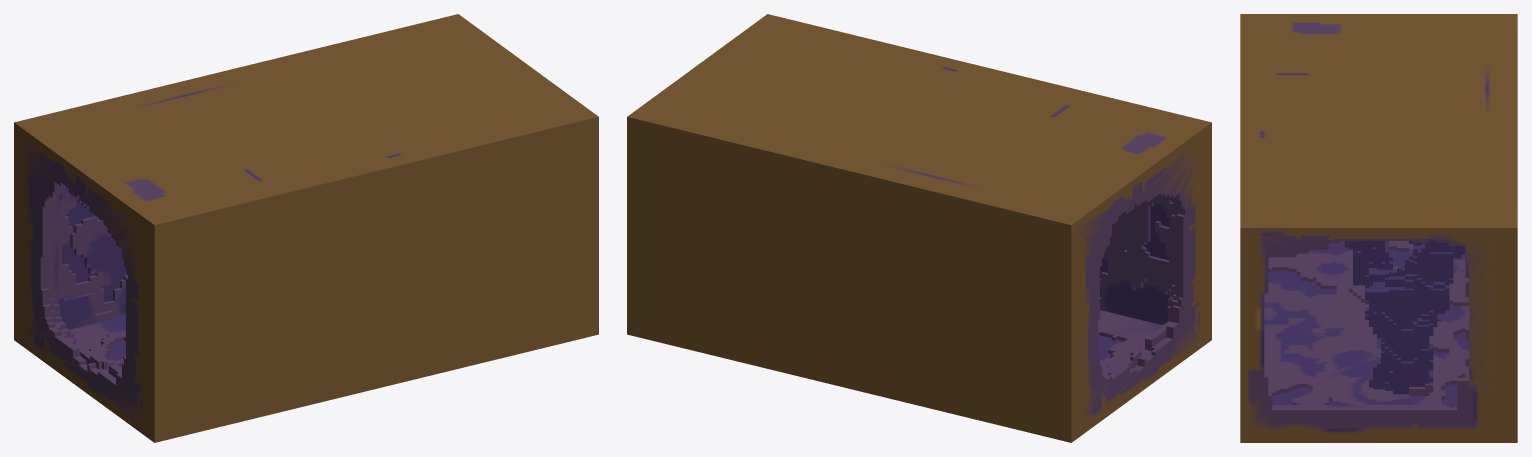
The model's file is Level3_pathway_v3.dae.
The picture shows the model from 3 angles, left to right: view 1: azimuth 30°, elevation 25°; view 2: azimuth 150°, elevation 25°; view 3: azimuth 270°, elevation 25°; orthographic projection.
Visible parts, largest first — view 1: level3_pathway_v3.level_3_pathway_v3; view 2: level3_pathway_v3.level_3_pathway_v3; view 3: level3_pathway_v3.level_3_pathway_v3.
Boxes of the visible parts, box(x1,y1,x2,y2) form: level3_pathway_v3.level_3_pathway_v3: box(14, 14, 598, 442); level3_pathway_v3.level_3_pathway_v3: box(627, 14, 1211, 442); level3_pathway_v3.level_3_pathway_v3: box(1240, 14, 1517, 442).
Bounding box in the file's own units: 12.6 × 5.9 × 6.9.
Materials: 1 (1 with a texture image).
